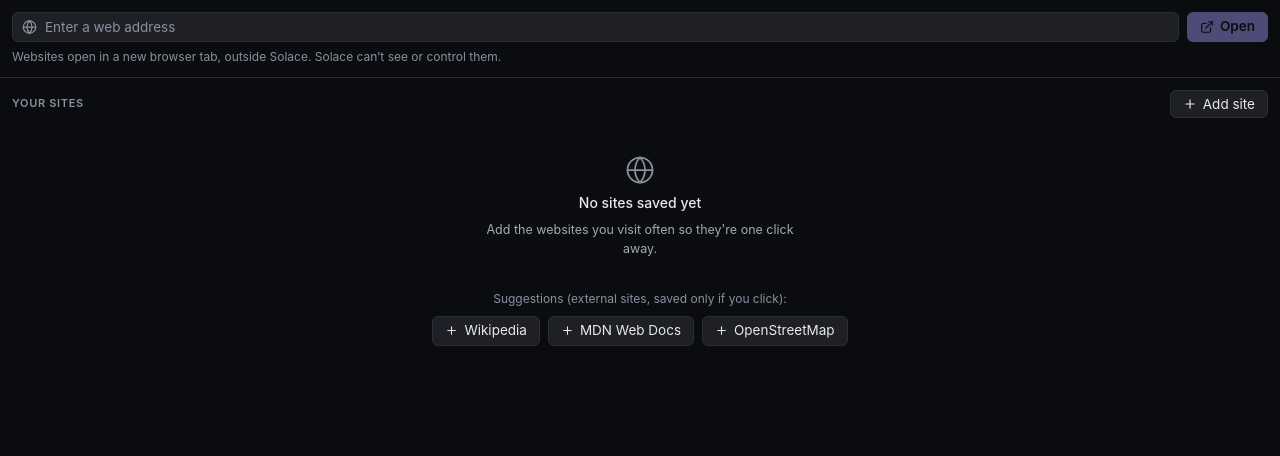
Test case: Web start page (browser shortcuts) › refuses to save an invalid site
Click the button "Add site": (1219, 104) [1170,90,1268,118]
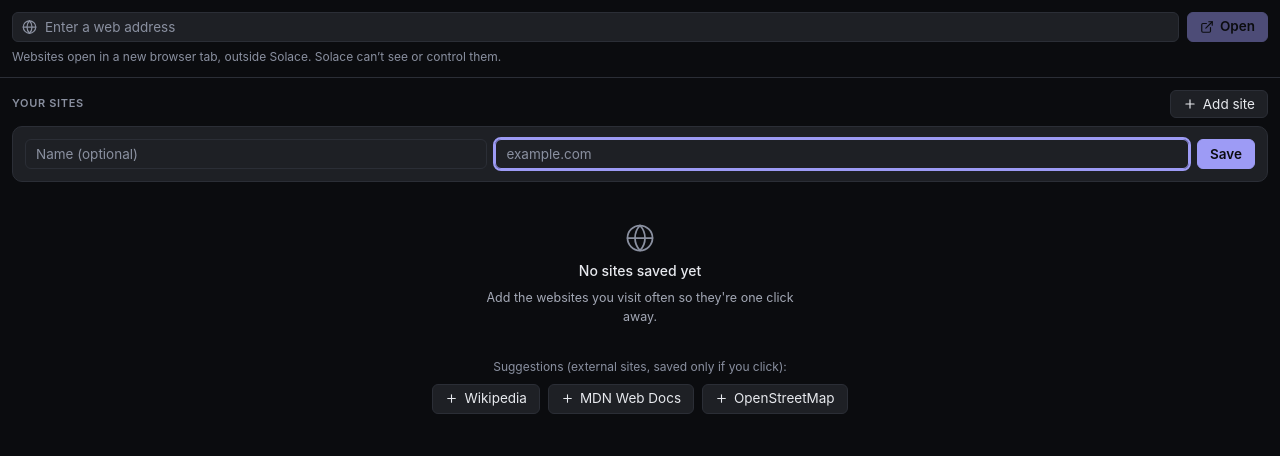
In the field named "Site address": (842, 154) [495,139,1189,169], type "data:text/html,hi"
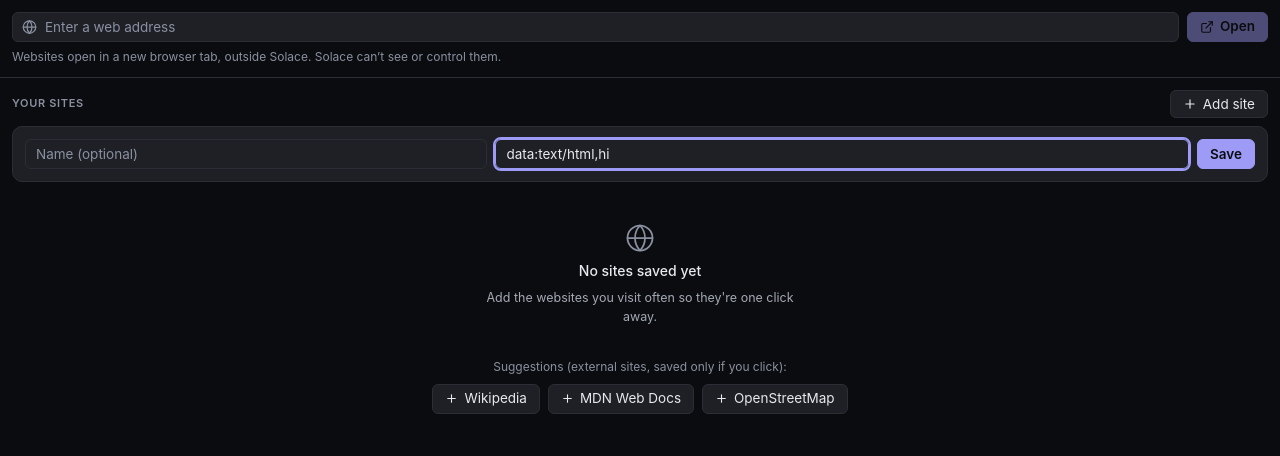
Click the button "Save": (1226, 154) [1197,139,1255,169]
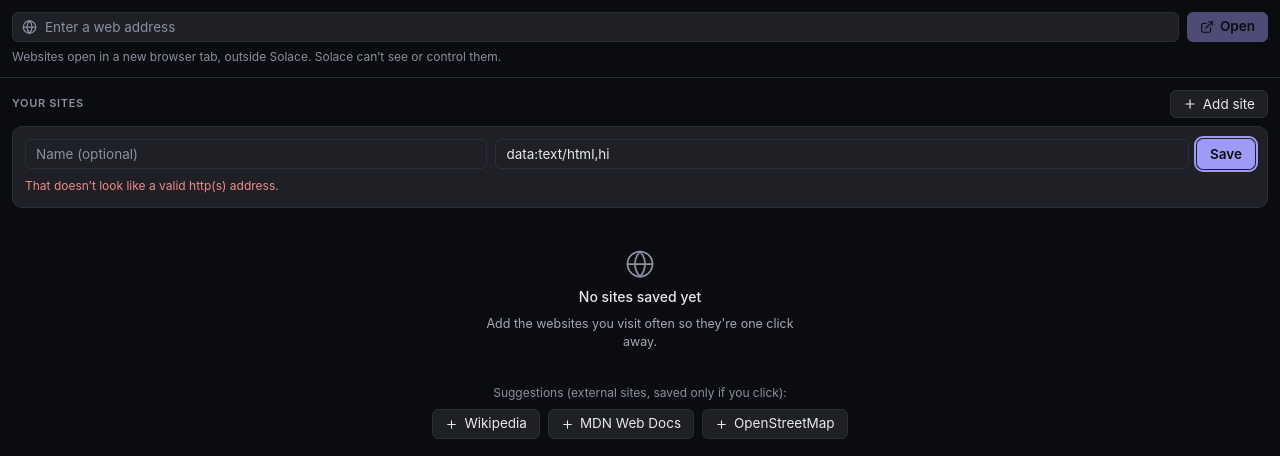
Now the message shows "valid http", box [25,178,279,193]
